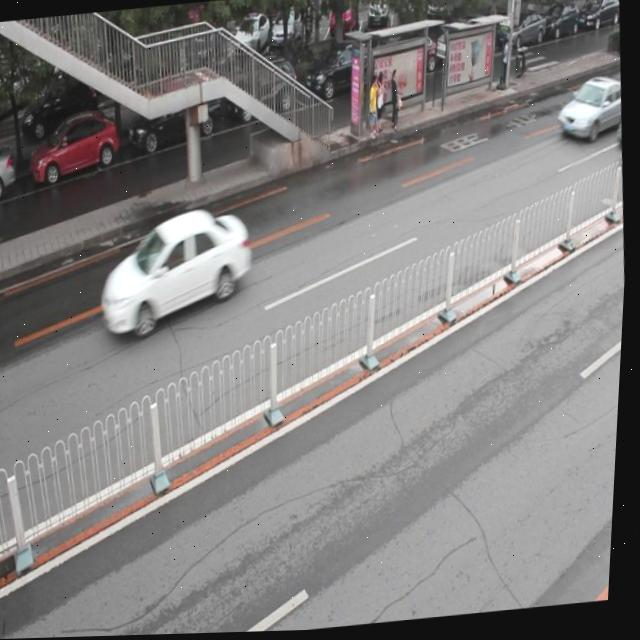car: (95, 205, 260, 340), (28, 111, 124, 186), (129, 86, 226, 151), (554, 74, 625, 143), (302, 42, 375, 105), (227, 62, 300, 123), (0, 137, 19, 206)
